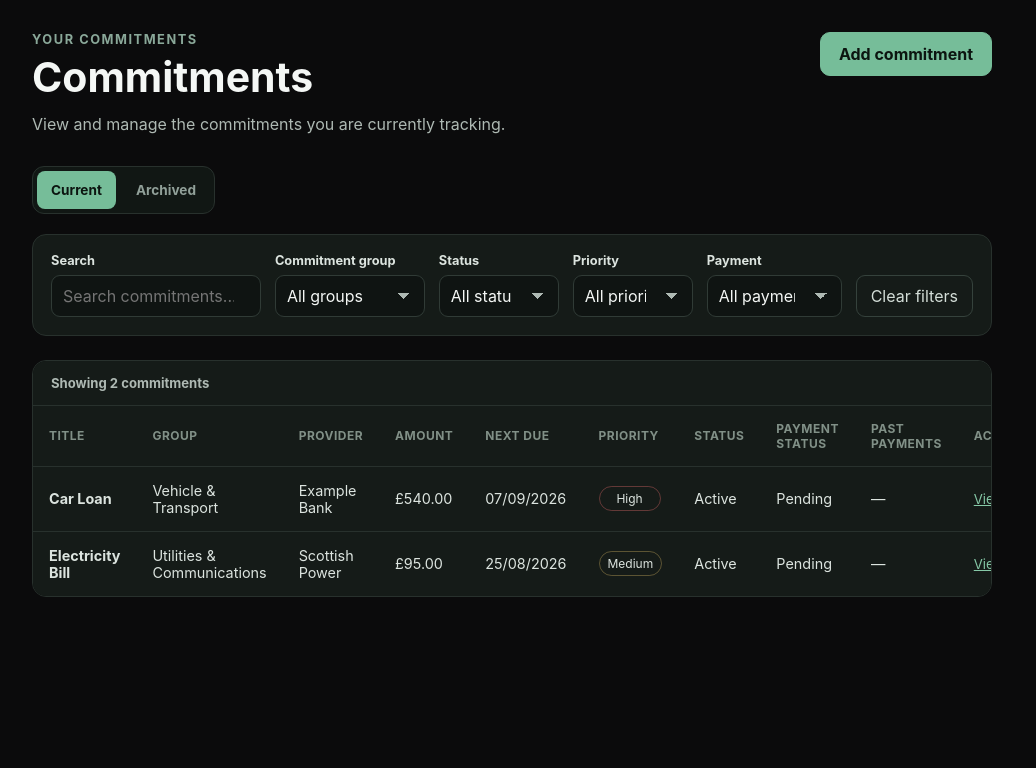
Test: CommitmentsPage › filters commitments by provider name
expect the text "Car Loan" is shown: met, box [33,466,136,531]
Type "Scottish Power" into the search field labelled "Search" at (156, 296), box [51,275,261,317]
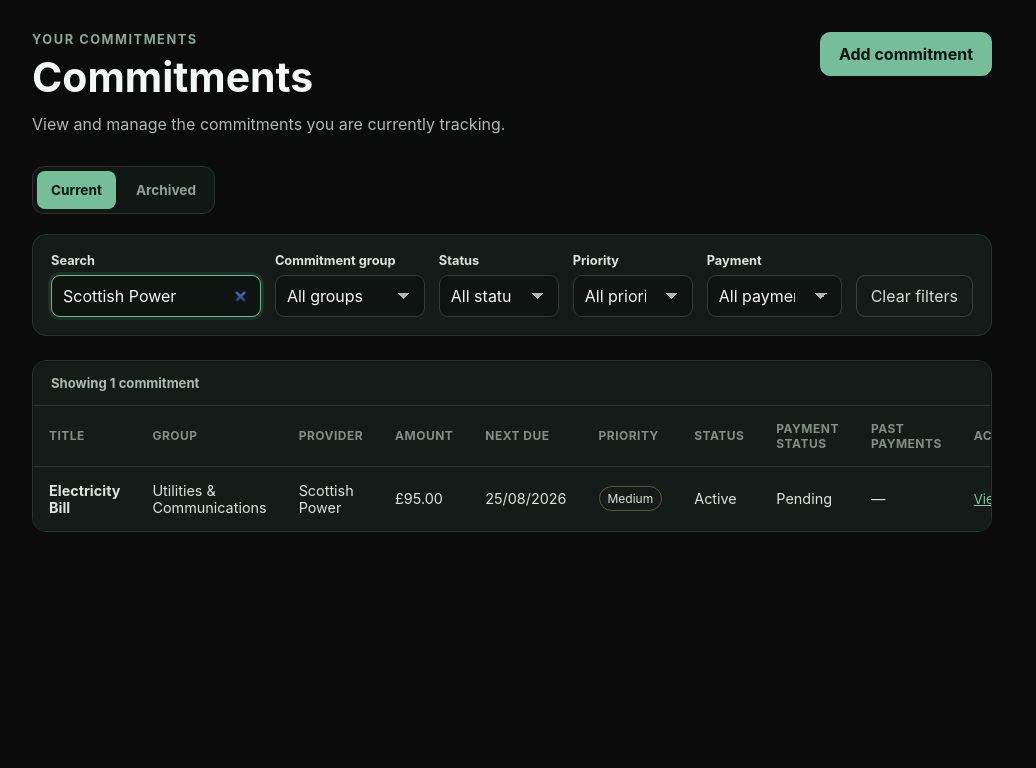
expect the text "Electricity Bill" is shown: met, box [33,466,136,531]
expect the text "Car Loan" is gone: met
expect the text "Showing 1 commitment" is shown: met, box [33,361,991,406]
